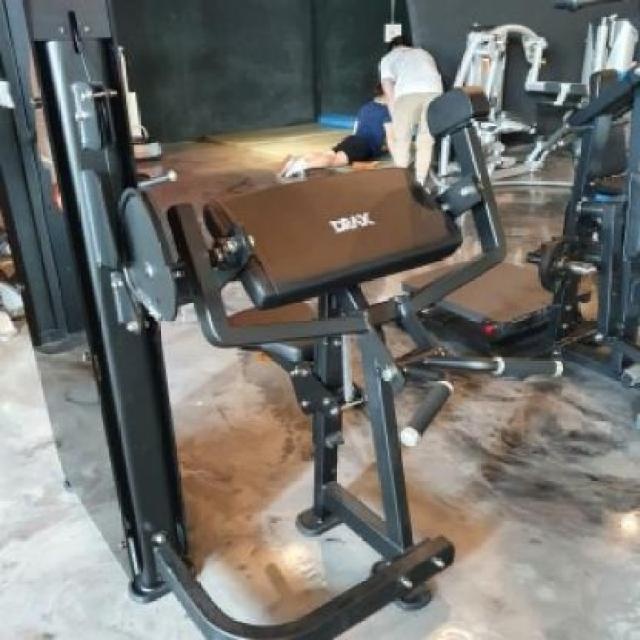arm curl machine: (14, 87, 508, 640)
